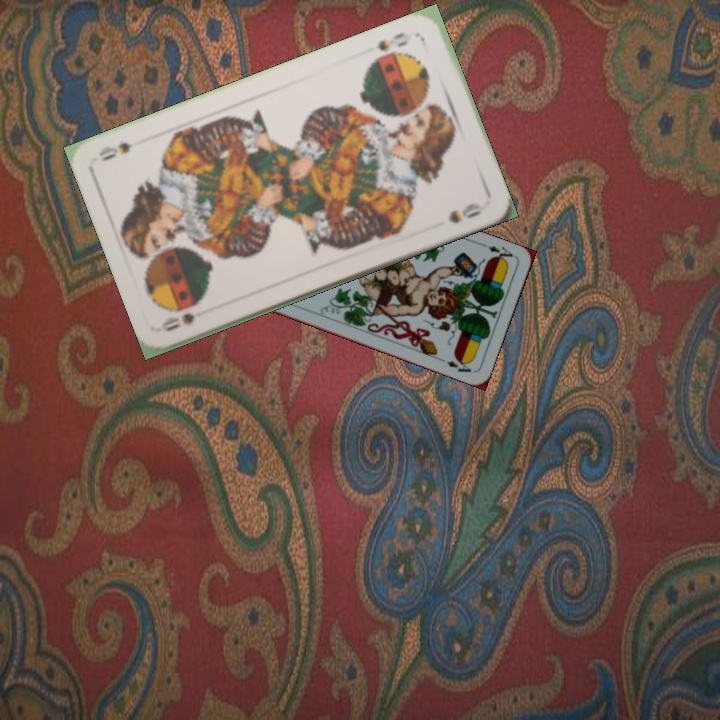EA: (478, 239, 518, 265)
SO: (371, 28, 411, 54), (158, 309, 198, 334)
